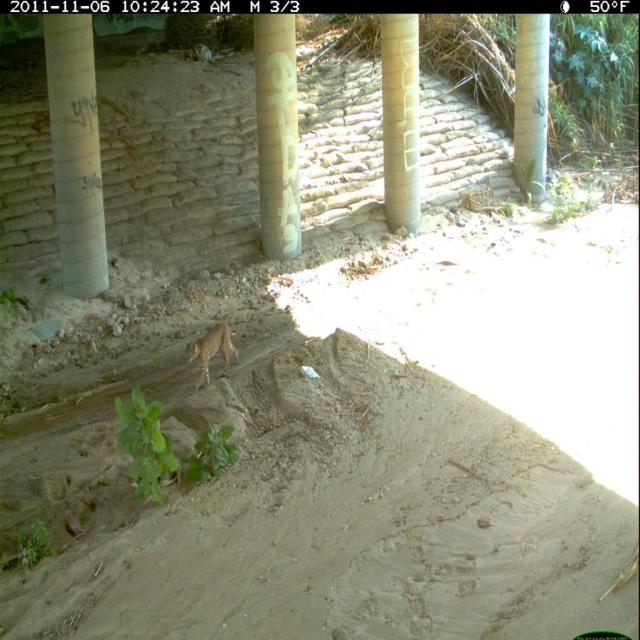bobcat: (181, 314, 244, 400)
